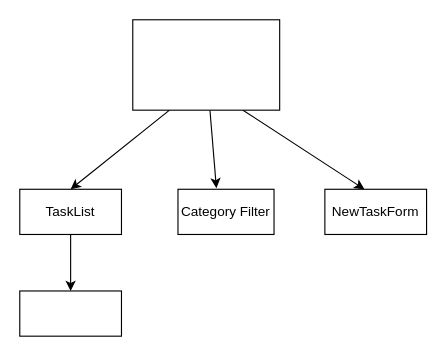
Image size: 446x356. Some labels were removed from this diagram. Each missing label, with the centre of its shape:
"App" goes at (x=206, y=64).
"Task" goes at (x=70, y=313).
